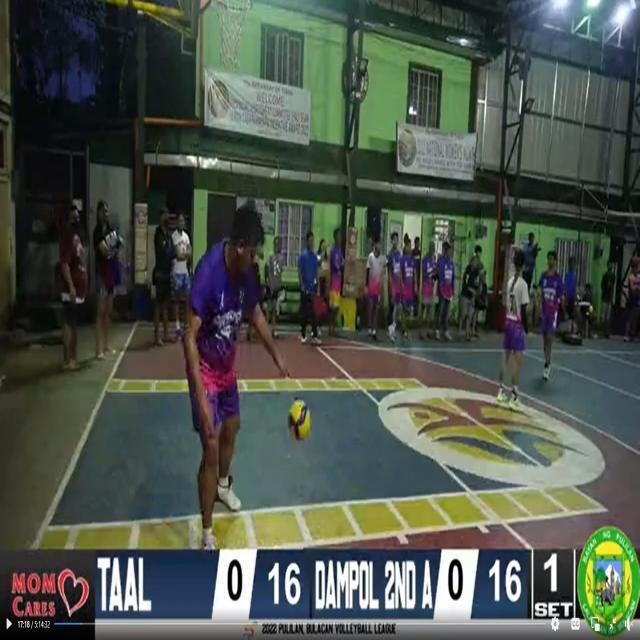volleyball: (287, 400, 312, 441)
